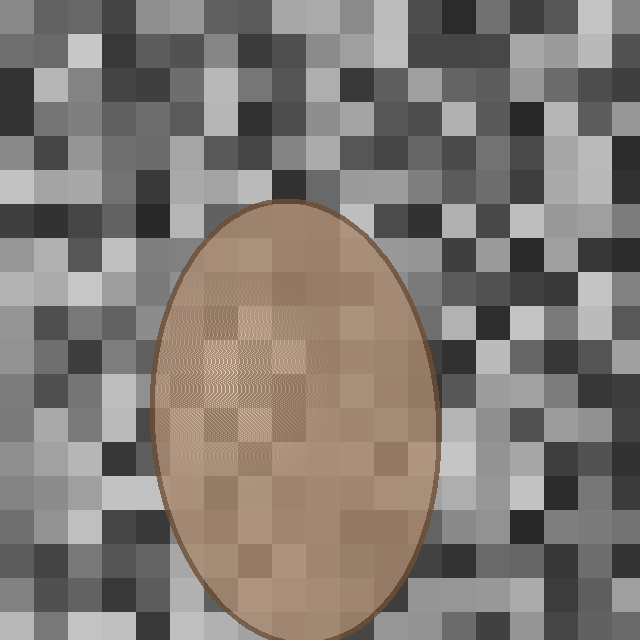lens: (152, 201, 438, 640)
